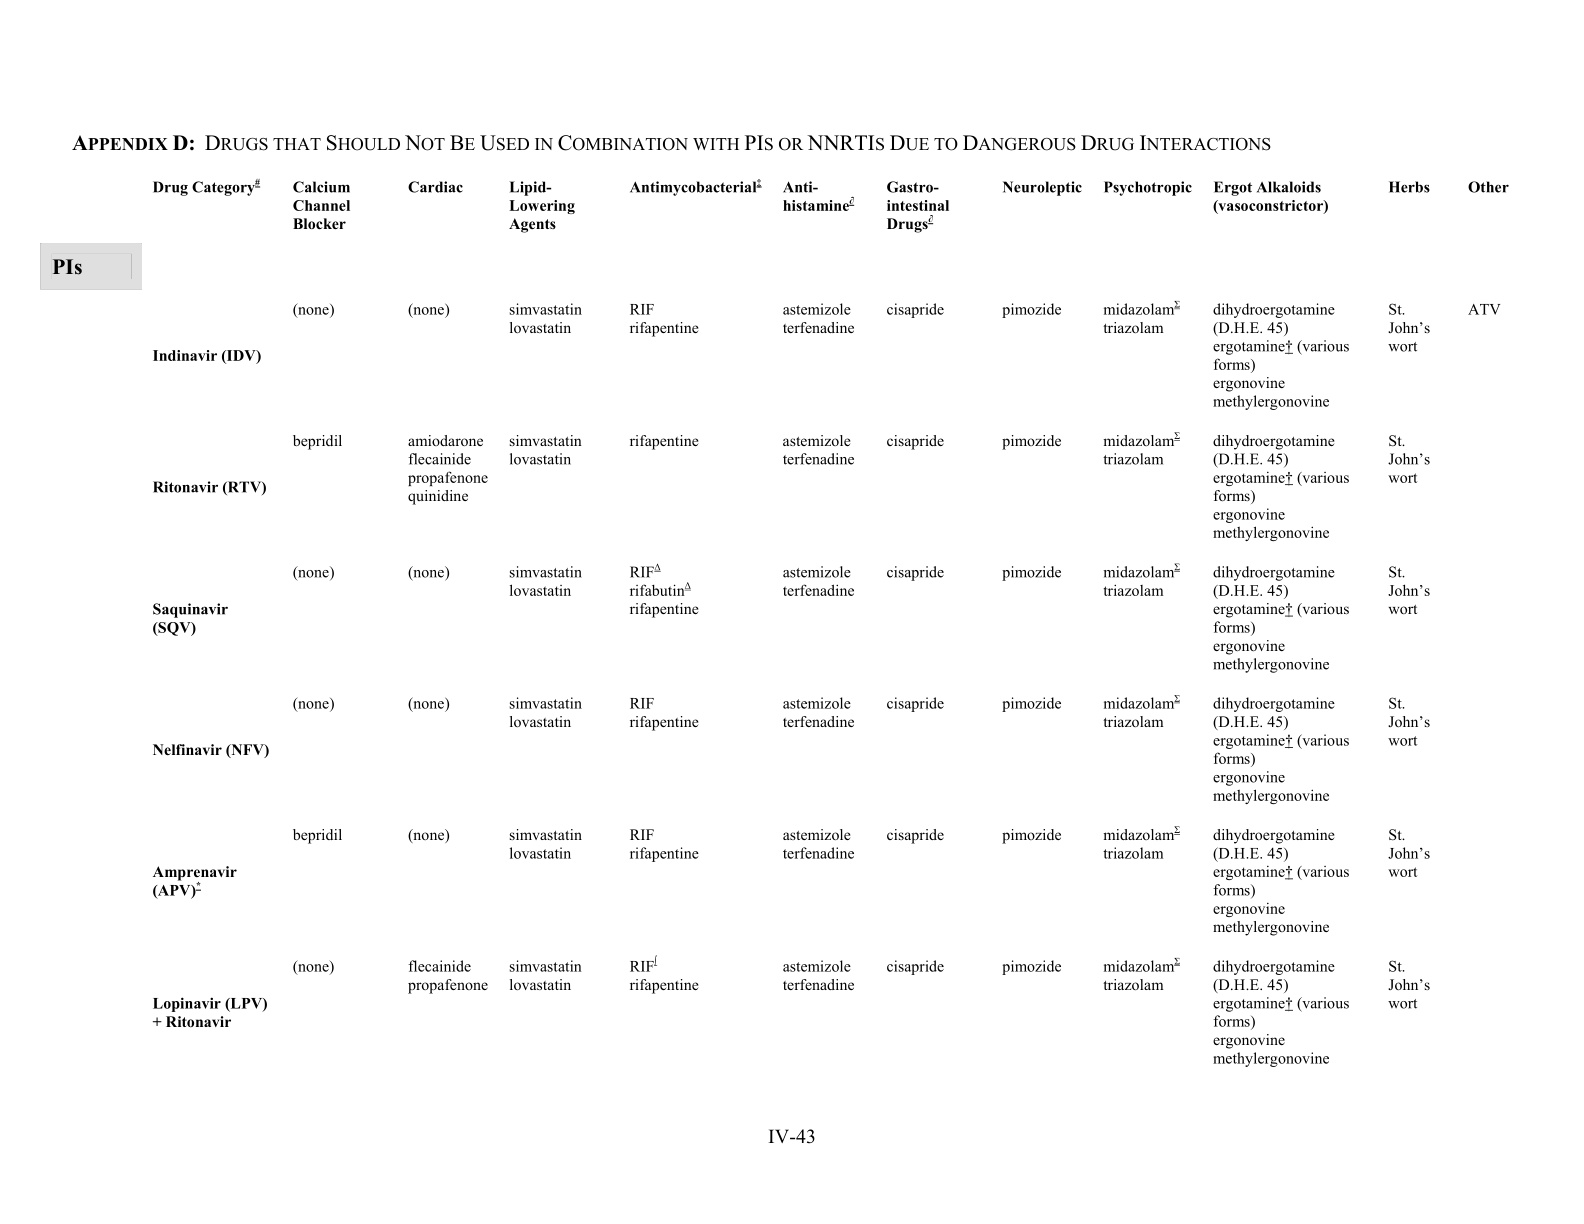nolines: (148, 168, 1515, 1070)
